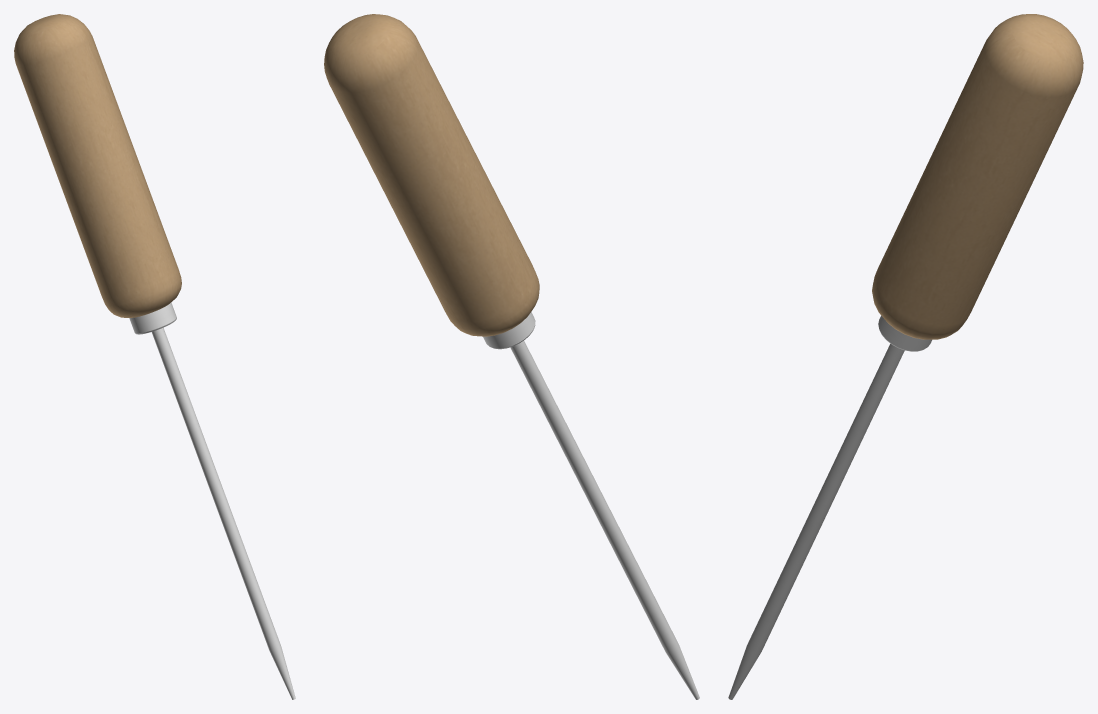
File: IcePick.obj
The picture shows the model from 3 angles, left to right: view 1: azimuth 90°, elevation 25°; view 2: azimuth 150°, elevation 25°; view 3: azimuth 270°, elevation 25°; orthographic projection. The views are drawn at different scales.
Parts seen in each view (by area): view 1: IcePick; view 2: IcePick; view 3: IcePick.
Boxes of the visible parts, bbox=[...] form: IcePick: bbox=[14, 14, 295, 699]; IcePick: bbox=[324, 14, 699, 699]; IcePick: bbox=[728, 14, 1083, 699].
Size of the model in its own units: 2.45 by 7.78 by 3.25.
